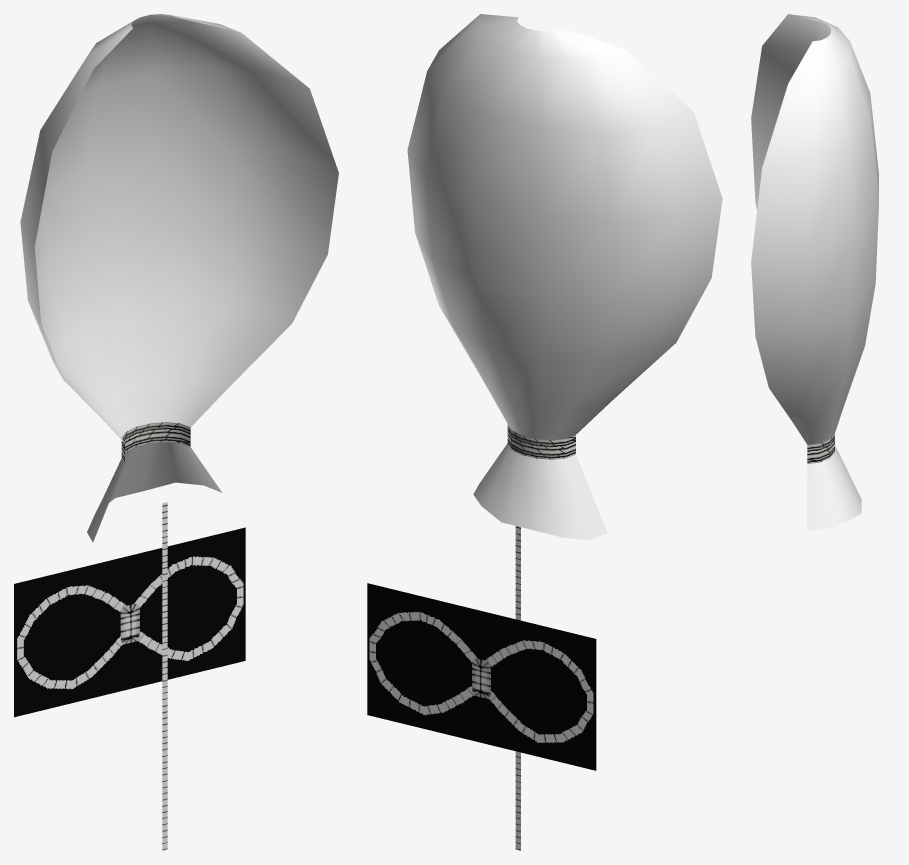
Rendered from Balloon_ribbon.fbx.
3 views of the same model, side by side, from view 1: azimuth 30°, elevation 25°; view 2: azimuth 150°, elevation 25°; view 3: azimuth 270°, elevation 25° (orthographic). The views are drawn at different scales.
Visible parts, largest first — view 1: Balloon_Ribbon, Tail_Ribbon; view 2: Balloon_Ribbon, Tail_Ribbon; view 3: Balloon_Ribbon.
Boxes of the visible parts, bbox=[...] form: Balloon_Ribbon: bbox=[20, 14, 338, 542]; Tail_Ribbon: bbox=[14, 502, 245, 850]; Balloon_Ribbon: bbox=[407, 14, 722, 540]; Tail_Ribbon: bbox=[367, 526, 596, 850]; Balloon_Ribbon: bbox=[751, 14, 878, 530].
Bounding box in the file's own units: 16 × 6.75 × 42.
Materials: 2 (2 with a texture image).
